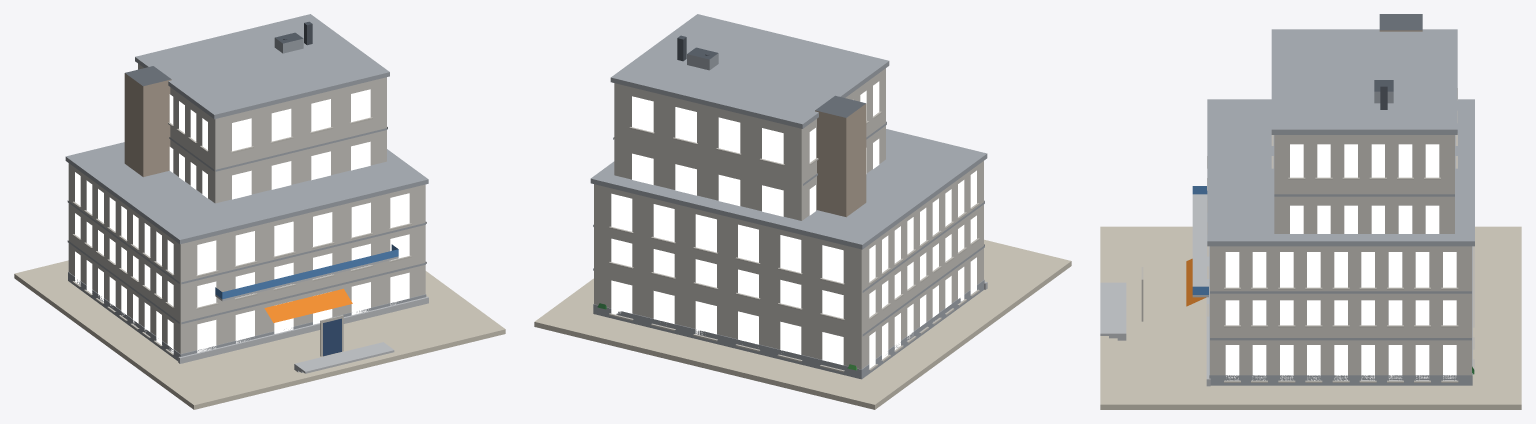
3 views of the same model, side by side, from view 1: azimuth 30°, elevation 25°; view 2: azimuth 150°, elevation 25°; view 3: azimuth 270°, elevation 25° (orthographic). The views are drawn at different scales.
Parts seen in each view (by area): view 1: b10_x2; view 2: b10_x2; view 3: b10_x2.
Part boxes in pixels (<box>): b10_x2: <box>14,14,505,409</box>; b10_x2: <box>534,14,1071,409</box>; b10_x2: <box>1100,14,1521,409</box>.
Bounding box in the file's own units: 1.96 × 1.45 × 1.96.
